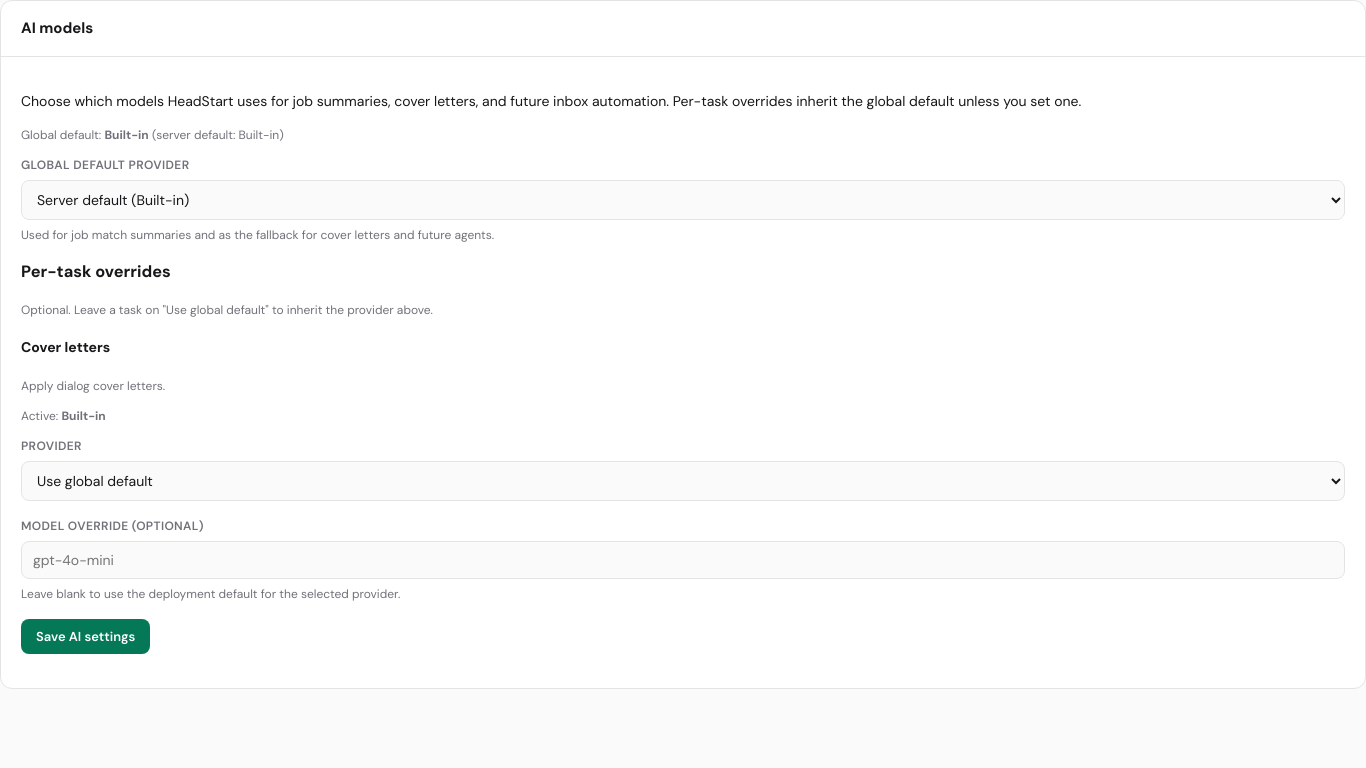
Test: SettingsSummaryCard (save) › shows a generic save error when a non-Error is thrown
Click the button "Save AI settings". click: {"x": 86, "y": 636}
box: top-left (21, 619), bottom-right (150, 654)
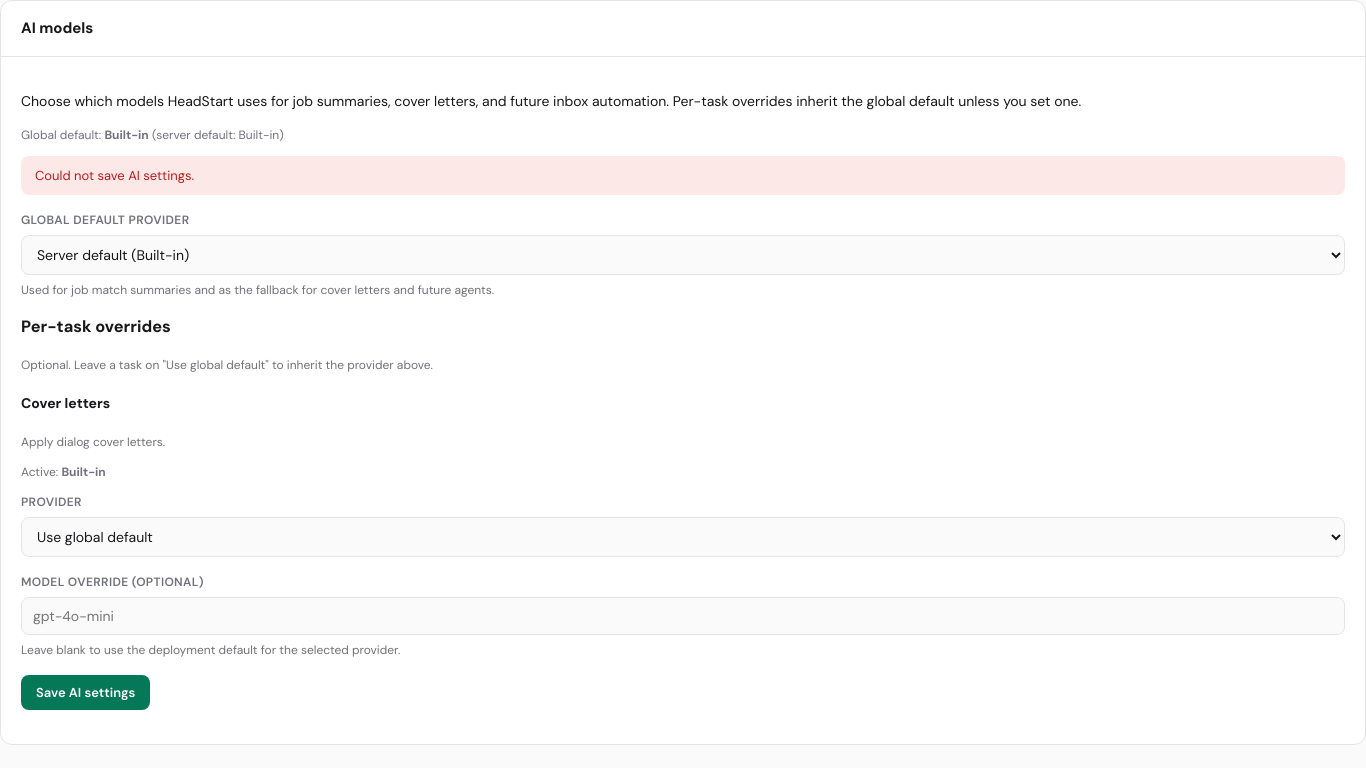
Now the text "Could not save AI settings." is shown, box top-left (21, 156), bottom-right (1345, 195)
